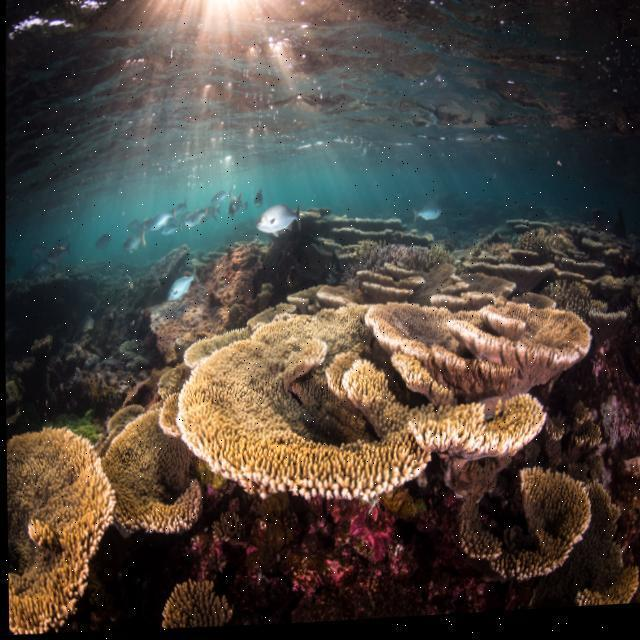Healthy Coral: (92, 258, 568, 550), (5, 413, 110, 636), (452, 472, 626, 582)
